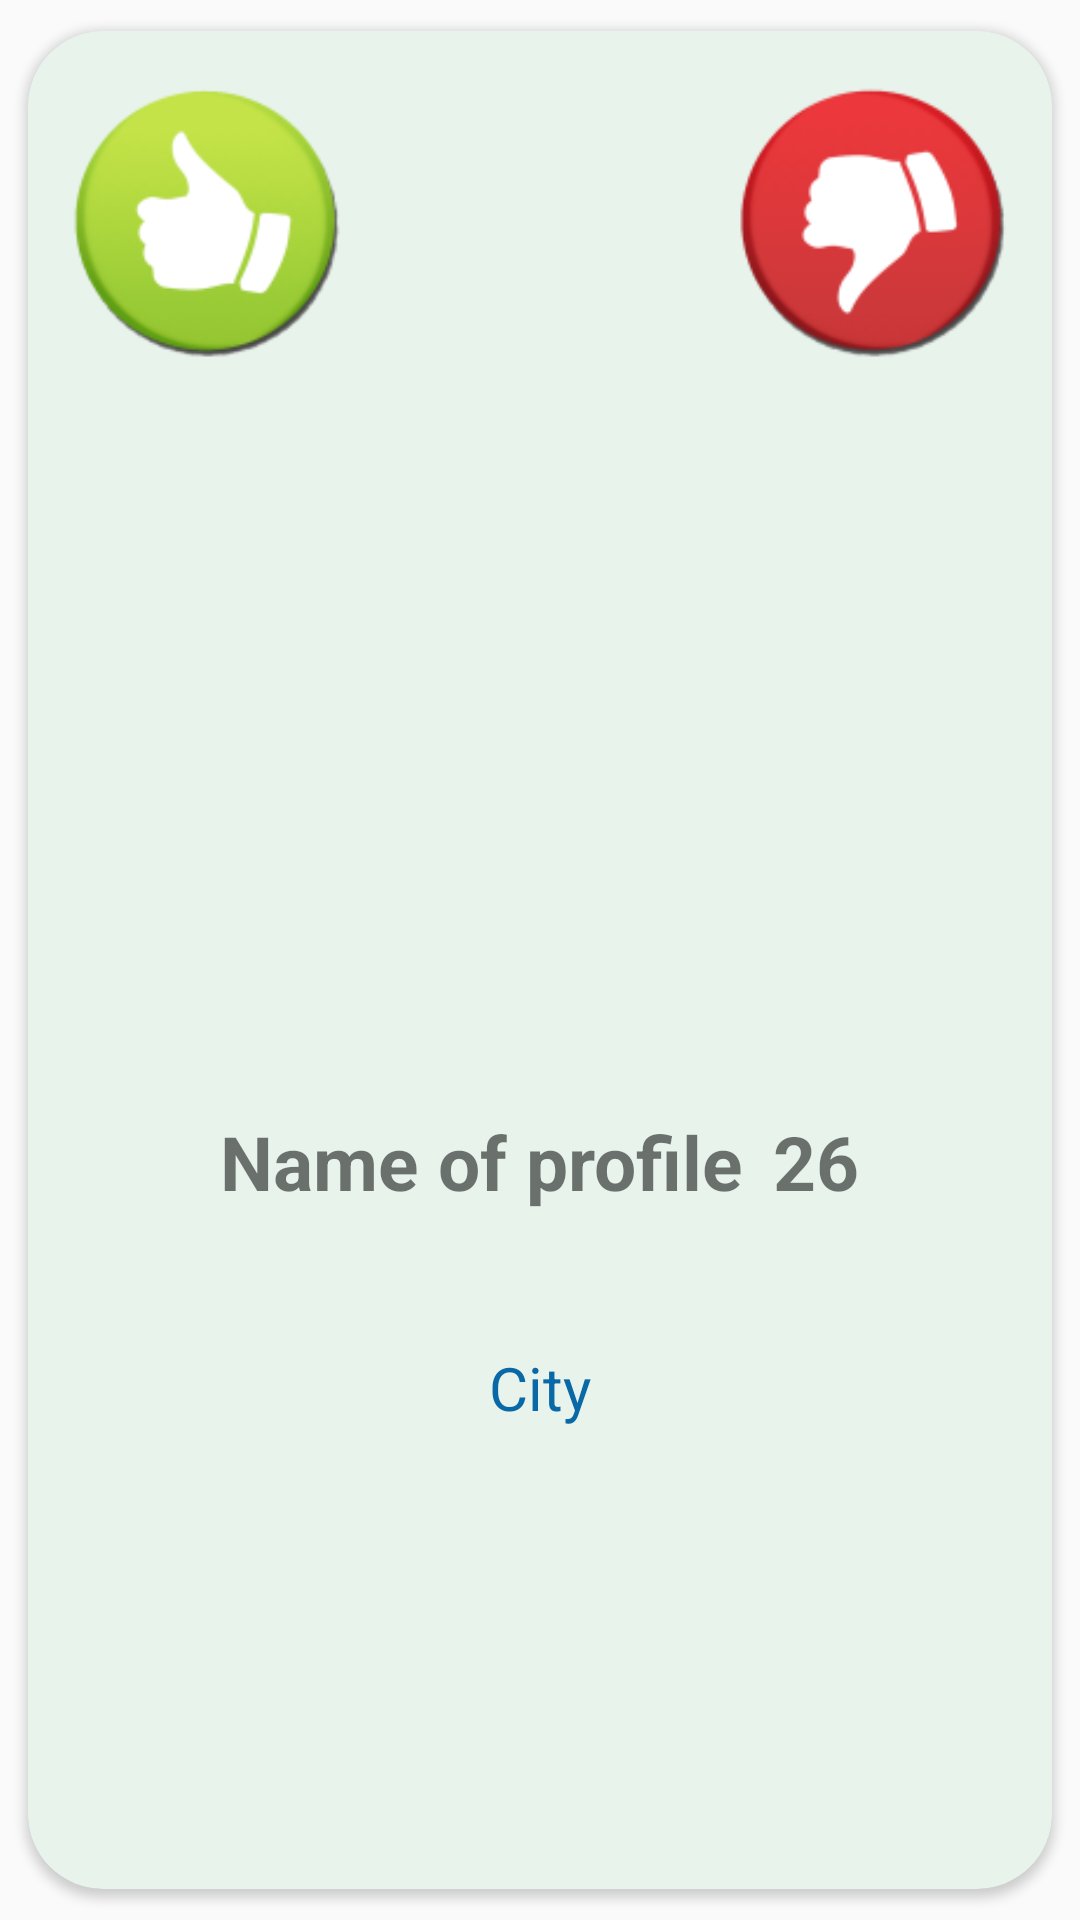

Icon click points for this 1080x1920 phone screenshot, format point (x, y):
dislike: point (872, 223)
like: point (206, 223)
